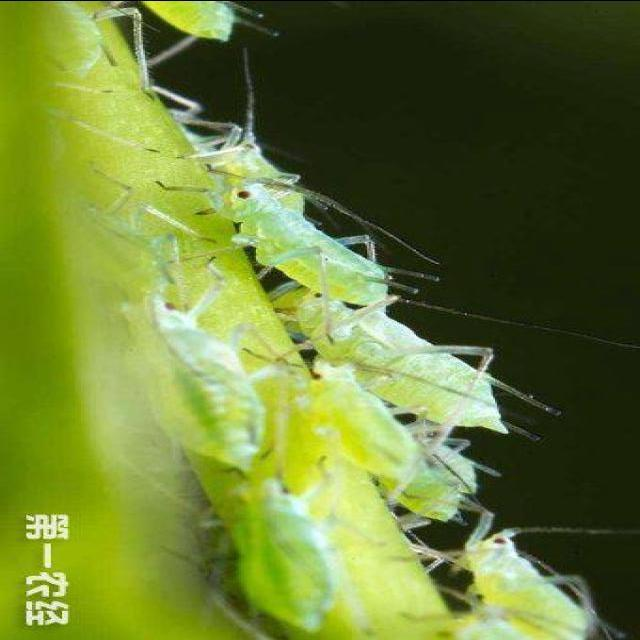aphid: (248, 265, 511, 454), (157, 158, 396, 318)
